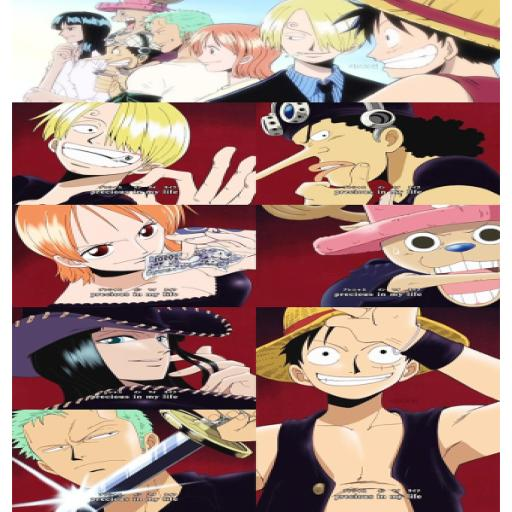Luffy: (255, 307, 458, 405), (351, 0, 495, 82)
Nami: (14, 204, 216, 280), (188, 22, 276, 79)
NicoRobin: (15, 311, 259, 408), (46, 13, 110, 52)
Usopp: (250, 104, 397, 188), (90, 27, 148, 82)
Zoro: (12, 409, 169, 498), (141, 10, 212, 54)
sanji: (26, 104, 198, 177), (256, 0, 362, 58)
